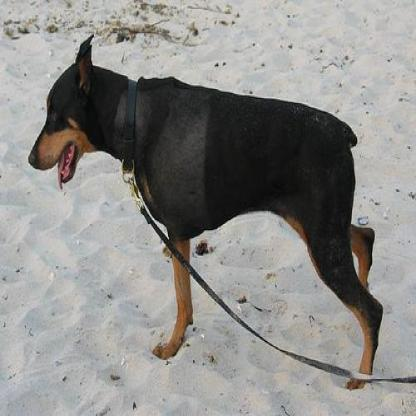Doberman: (28, 33, 383, 387)
